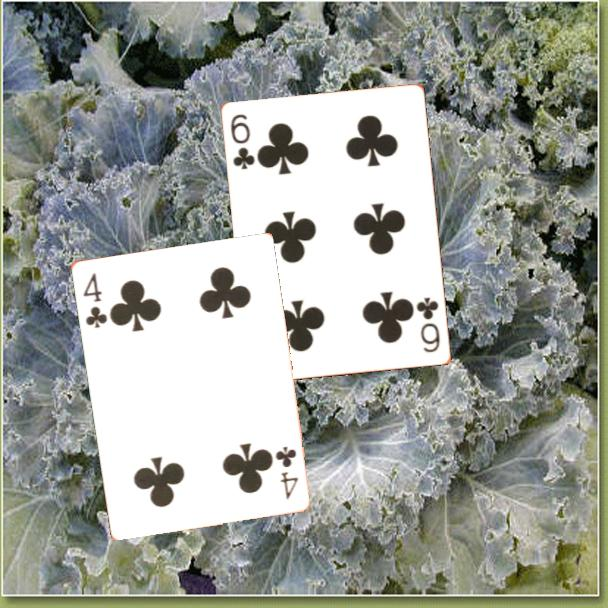c04: (79, 269, 110, 331), (272, 442, 301, 502)
c06: (227, 111, 258, 172), (413, 294, 443, 356)
